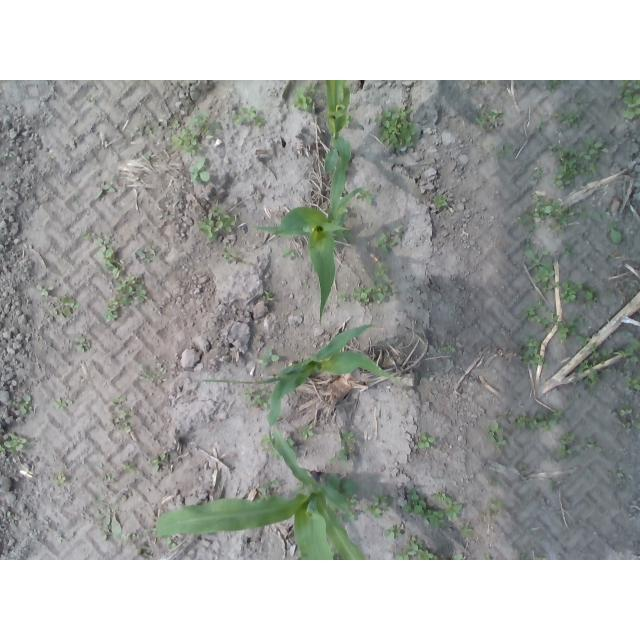Maize: (154, 430, 369, 560), (247, 142, 364, 323), (202, 325, 398, 432), (326, 80, 351, 174), (326, 472, 357, 496)
Weeds: (553, 139, 609, 188), (170, 112, 221, 155), (374, 106, 418, 151), (535, 194, 576, 233), (525, 248, 560, 293), (579, 347, 614, 390), (197, 207, 236, 242), (94, 498, 122, 543), (514, 409, 564, 433), (521, 297, 560, 327), (393, 536, 439, 561), (556, 315, 592, 345), (96, 236, 121, 279), (593, 210, 624, 244), (561, 281, 600, 308), (113, 276, 148, 306), (616, 81, 640, 124), (354, 279, 395, 303), (520, 337, 548, 370), (434, 490, 462, 522), (293, 83, 321, 113), (376, 227, 405, 254), (613, 338, 640, 365), (401, 488, 426, 517), (233, 106, 267, 126), (365, 494, 393, 518), (50, 296, 78, 319), (553, 108, 583, 129), (484, 422, 508, 448), (243, 389, 270, 412), (189, 157, 212, 184), (0, 433, 28, 455), (476, 108, 504, 130), (555, 433, 578, 459), (339, 496, 357, 523), (519, 211, 540, 234), (341, 431, 356, 463), (13, 393, 34, 415), (424, 509, 447, 528), (116, 408, 133, 433), (137, 245, 160, 263), (148, 453, 168, 472), (102, 299, 119, 321), (261, 349, 280, 368), (94, 184, 114, 201), (417, 433, 435, 451), (136, 363, 153, 382), (382, 524, 402, 540), (73, 336, 91, 353), (488, 498, 505, 516), (374, 261, 390, 280), (258, 478, 279, 492), (624, 374, 640, 391), (223, 247, 241, 262), (440, 340, 456, 355), (357, 188, 372, 204), (434, 194, 449, 210), (300, 424, 314, 440), (38, 284, 55, 297), (328, 542, 340, 560), (53, 397, 67, 412), (499, 144, 514, 158), (460, 522, 472, 539), (269, 447, 283, 461), (126, 533, 143, 544), (121, 462, 136, 474), (547, 80, 562, 92), (281, 246, 295, 258), (579, 206, 590, 221), (519, 554, 546, 560), (545, 476, 555, 492), (630, 413, 640, 428), (262, 290, 274, 302), (562, 244, 574, 256), (532, 169, 544, 180), (53, 475, 67, 484), (619, 407, 633, 416), (167, 536, 177, 548), (344, 115, 353, 128), (587, 437, 598, 447), (490, 478, 502, 487), (548, 144, 560, 153), (616, 466, 624, 479), (81, 231, 91, 241), (262, 435, 271, 446), (138, 550, 149, 559), (111, 397, 125, 404), (535, 120, 545, 129), (255, 495, 269, 501), (286, 438, 295, 447), (453, 553, 464, 560), (518, 462, 527, 470), (576, 94, 584, 103), (340, 292, 348, 301), (146, 125, 154, 133), (108, 477, 117, 484), (607, 288, 614, 296), (483, 556, 492, 561), (331, 457, 338, 463), (145, 155, 151, 162), (502, 409, 509, 415), (520, 167, 524, 173)
